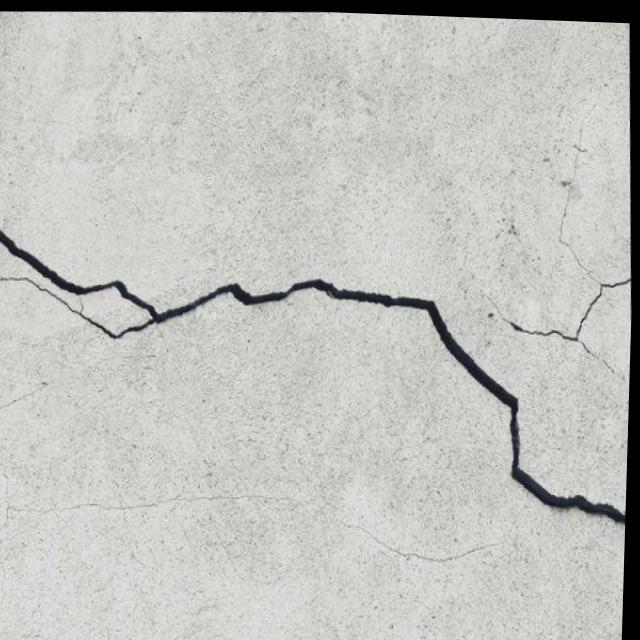Crack: (0, 163, 169, 366), (143, 256, 438, 345), (506, 194, 636, 387), (498, 403, 631, 559), (426, 283, 532, 420)
